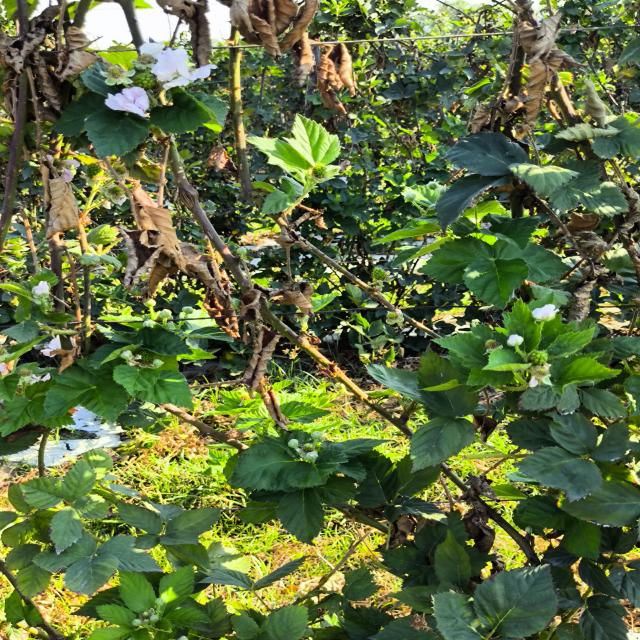boton: (507, 334, 524, 347), (303, 451, 318, 462), (311, 431, 325, 442), (288, 438, 299, 449)
flor: (151, 48, 214, 89), (105, 86, 149, 117), (532, 304, 557, 321)
